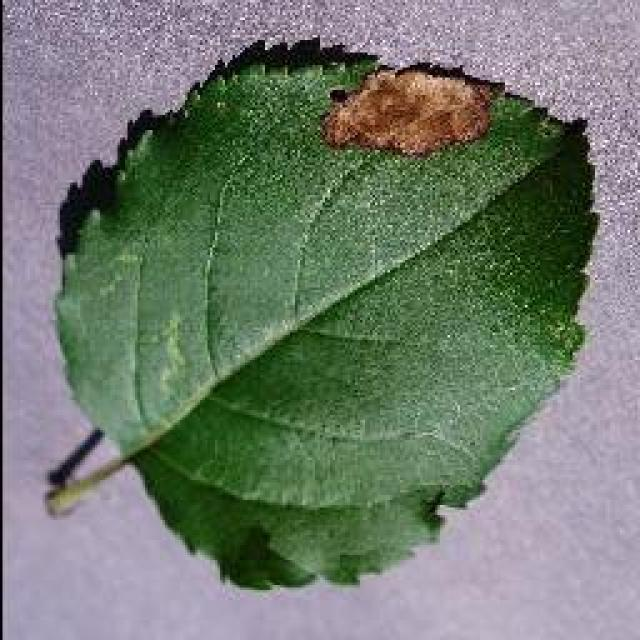Black_rot: (45, 32, 600, 590)
